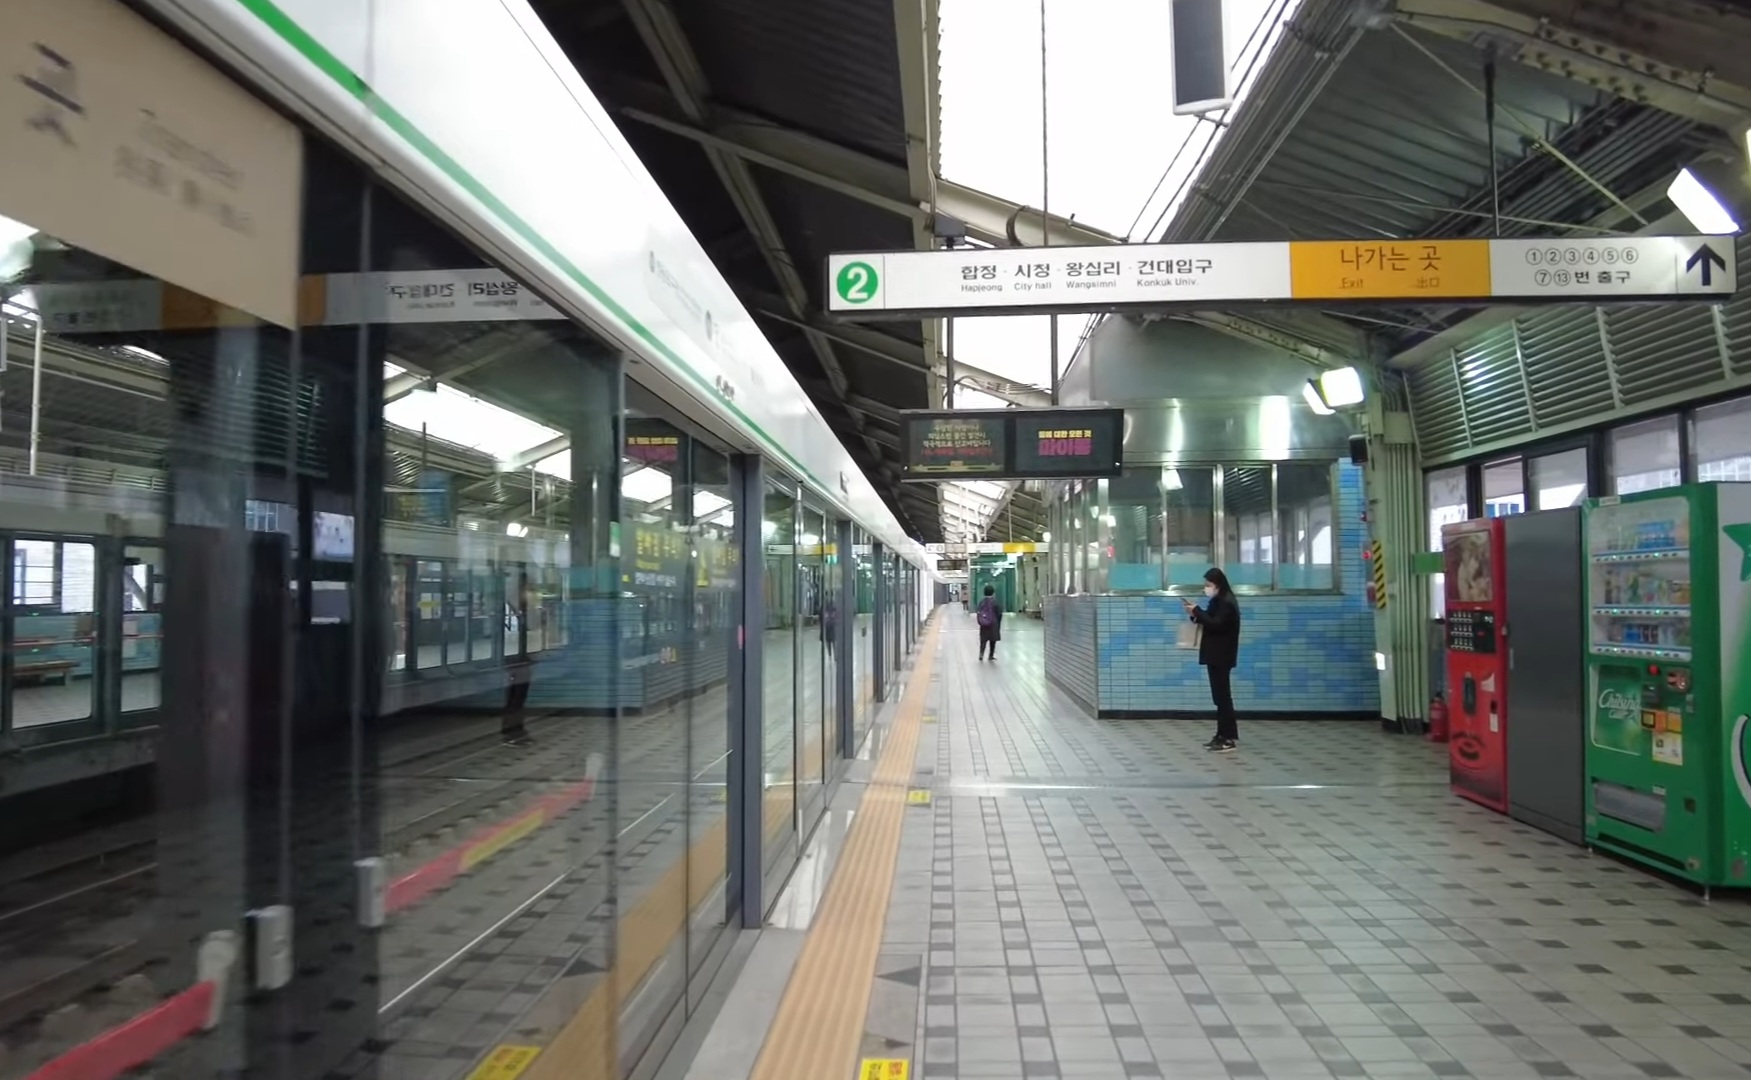signBoard: (820, 227, 1743, 312)
